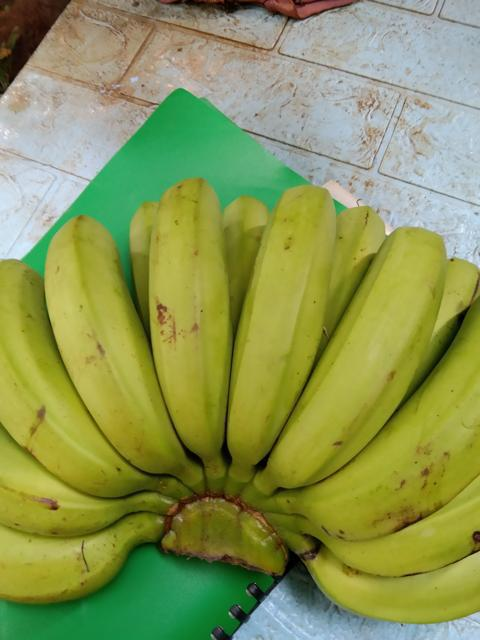freshunripe: (268, 218, 448, 487), (219, 172, 343, 490), (37, 204, 174, 481), (0, 249, 146, 499), (321, 463, 479, 582), (289, 546, 479, 633), (0, 514, 146, 612)
unripe: (297, 286, 476, 540), (134, 167, 240, 458)
